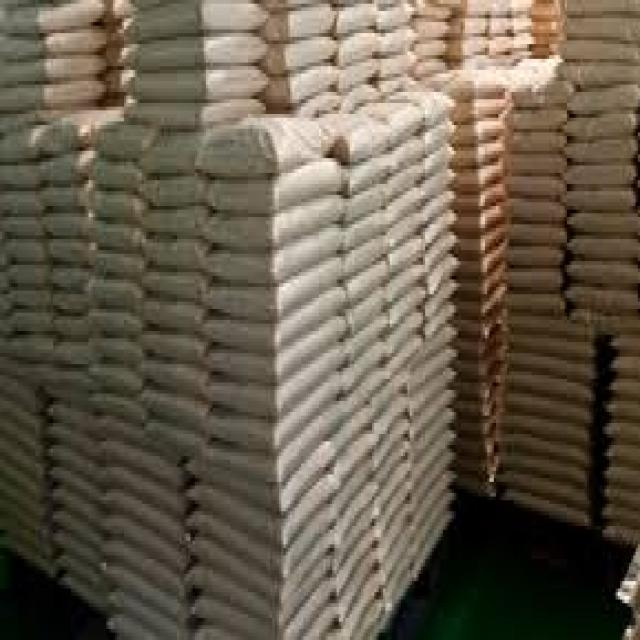cement_bag: (189, 523, 337, 614), (208, 393, 348, 488), (198, 468, 334, 557), (209, 283, 347, 358), (218, 313, 345, 388), (208, 254, 341, 323), (207, 150, 345, 216), (218, 373, 336, 450), (199, 109, 353, 167), (207, 192, 344, 257), (128, 91, 267, 136), (100, 538, 186, 606), (127, 65, 267, 105), (109, 483, 187, 551), (129, 31, 269, 68), (109, 438, 184, 498), (332, 518, 382, 599), (39, 98, 121, 145), (267, 59, 341, 110), (6, 76, 103, 112), (9, 27, 104, 63), (503, 408, 591, 445), (335, 475, 378, 547), (413, 378, 459, 445), (512, 368, 593, 406), (271, 31, 339, 76), (147, 384, 209, 432), (412, 425, 455, 494), (408, 341, 460, 396), (567, 277, 640, 316), (341, 256, 388, 316), (267, 3, 335, 44), (59, 487, 115, 535), (387, 278, 427, 343), (142, 127, 200, 171), (567, 230, 640, 264), (143, 264, 206, 303), (346, 147, 396, 196), (415, 467, 453, 531), (511, 456, 591, 486), (459, 219, 505, 270), (347, 309, 386, 368), (336, 425, 382, 475), (53, 443, 105, 487), (340, 204, 387, 252), (570, 15, 638, 47), (501, 193, 565, 226), (146, 334, 204, 370), (387, 231, 426, 284), (46, 144, 94, 187), (88, 153, 140, 192), (95, 359, 146, 398), (55, 529, 100, 573), (499, 107, 567, 136), (510, 150, 566, 185), (562, 59, 637, 85), (97, 120, 147, 158), (515, 333, 594, 357), (144, 208, 205, 239), (570, 184, 635, 213), (143, 174, 205, 204), (464, 279, 505, 324), (91, 272, 139, 310), (425, 202, 460, 254), (418, 161, 458, 206), (376, 462, 407, 520), (575, 86, 639, 114), (462, 359, 500, 406), (451, 93, 504, 126), (566, 135, 633, 161), (145, 302, 201, 333), (153, 419, 198, 457), (92, 192, 141, 226), (462, 261, 504, 300), (52, 403, 99, 437), (382, 525, 411, 580), (56, 513, 100, 549), (457, 182, 503, 216), (341, 29, 380, 69), (423, 115, 456, 162), (456, 141, 502, 174), (509, 290, 563, 317), (505, 240, 562, 265), (0, 161, 48, 189), (464, 322, 500, 359), (566, 165, 635, 184), (97, 308, 141, 337), (94, 393, 142, 419), (46, 210, 90, 238), (461, 408, 496, 442), (381, 50, 417, 81), (51, 264, 90, 291), (97, 225, 138, 250), (3, 191, 42, 217), (450, 16, 487, 43), (461, 452, 494, 482), (1, 215, 42, 238), (9, 235, 44, 261), (51, 237, 87, 261), (20, 310, 53, 333), (59, 311, 88, 336), (17, 283, 47, 307)
